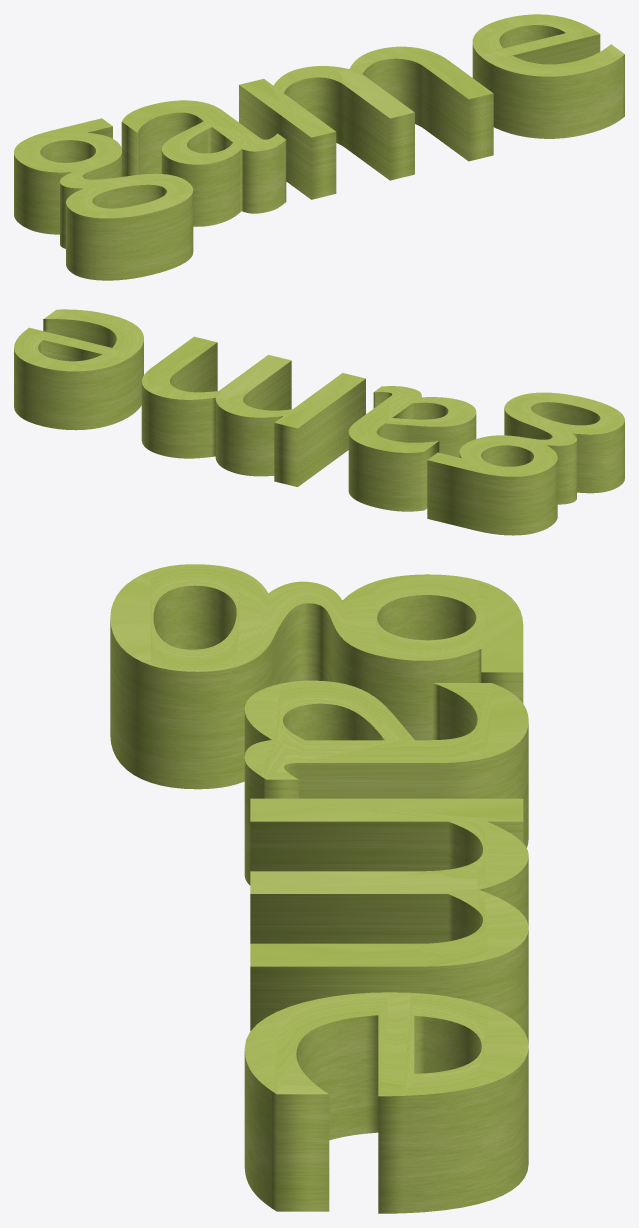
The model's file is title.obj.
3 renders of one model, top to bottom at view 1: azimuth 30°, elevation 25°; view 2: azimuth 150°, elevation 25°; view 3: azimuth 270°, elevation 25°, orthographic. The views are drawn at different scales.
Parts seen in each view (by area): view 1: テキスト; view 2: テキスト; view 3: テキスト.
Part boxes in pixels (<box>): テキスト: <box>14,14,624,280</box>; テキスト: <box>14,309,624,535</box>; テキスト: <box>110,564,528,1213</box>.
Bounding box in the file's own units: 2.07 × 0.213 × 0.688.
Materials: 1 (1 with a texture image).
